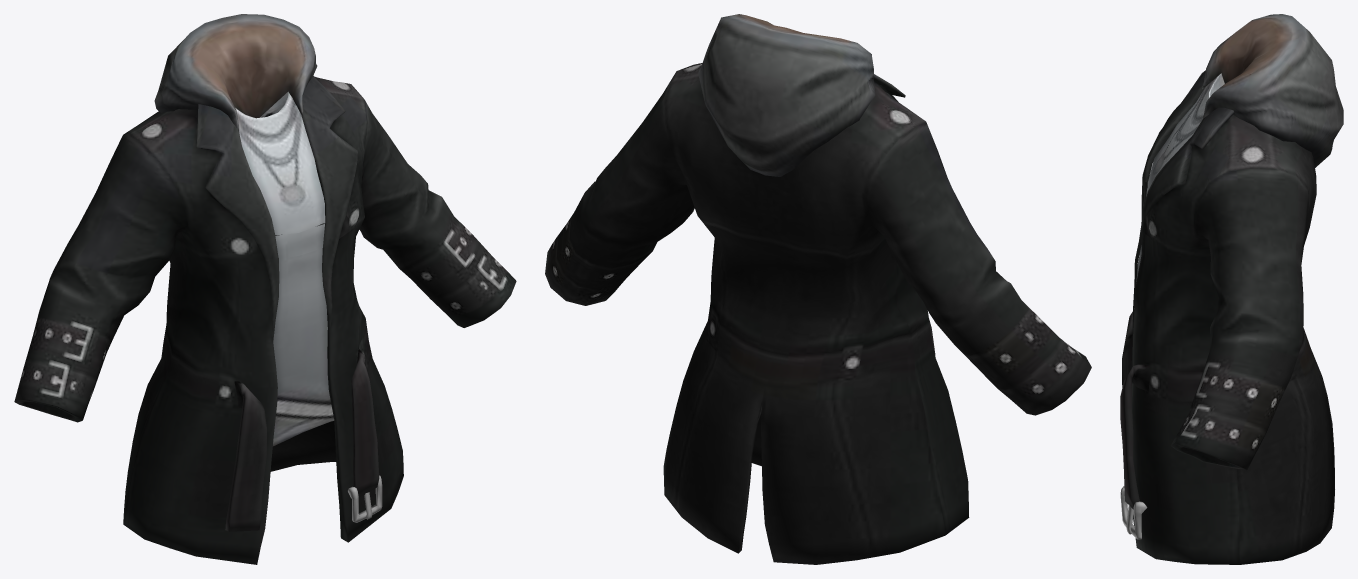
The model's file is cloth05.glb.
The picture shows the model from 3 angles, left to right: view 1: azimuth 30°, elevation 25°; view 2: azimuth 150°, elevation 25°; view 3: azimuth 270°, elevation 25°; orthographic projection. The views are drawn at different scales.
Parts seen in each view (by area): view 1: Top; view 2: Top; view 3: Top.
Boxes of the visible parts, <box> form: Top: <box>14,14,516,564</box>; Top: <box>545,14,1091,564</box>; Top: <box>1120,14,1343,564</box>.
Size of the model in its own units: 1.87 by 1.73 by 0.7105.
Materials: 1 (1 with a texture image).
